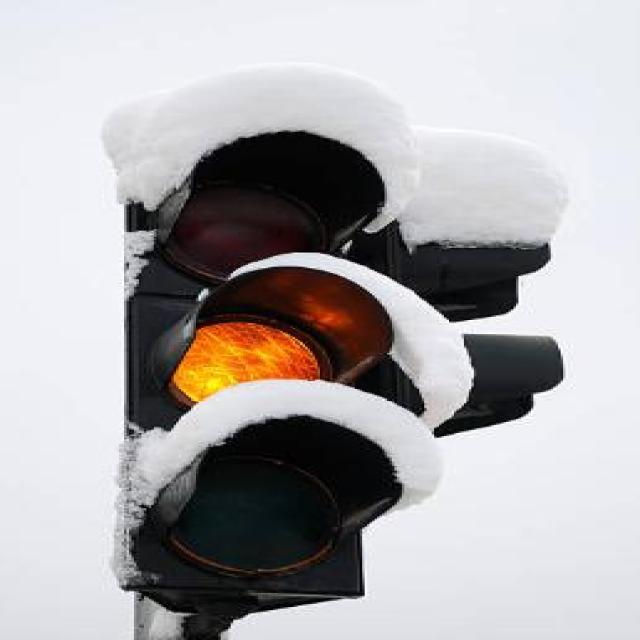yellow_light: (226, 154, 439, 502)
